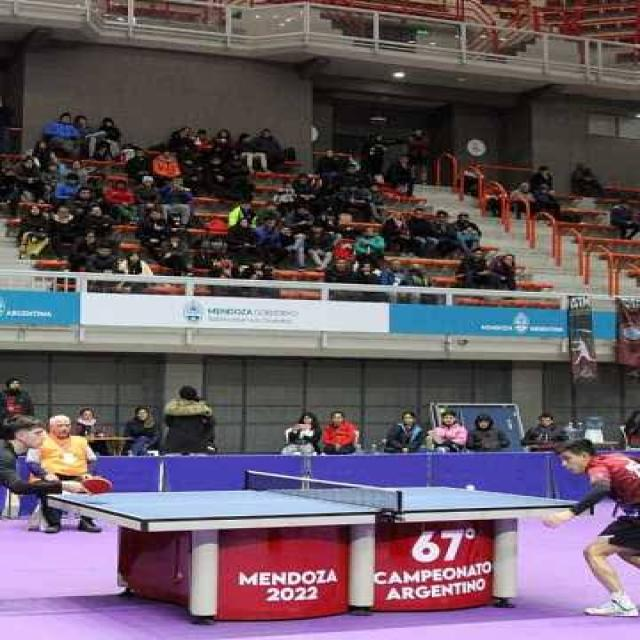TT Net: (238, 467, 403, 517)
TT Racket: (75, 474, 121, 498)
TT Table: (46, 485, 591, 519)
